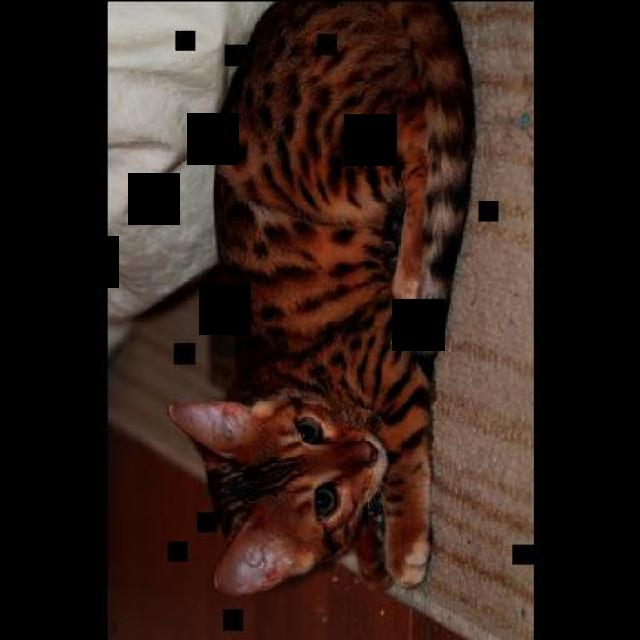unauthorized: (167, 0, 476, 597)
